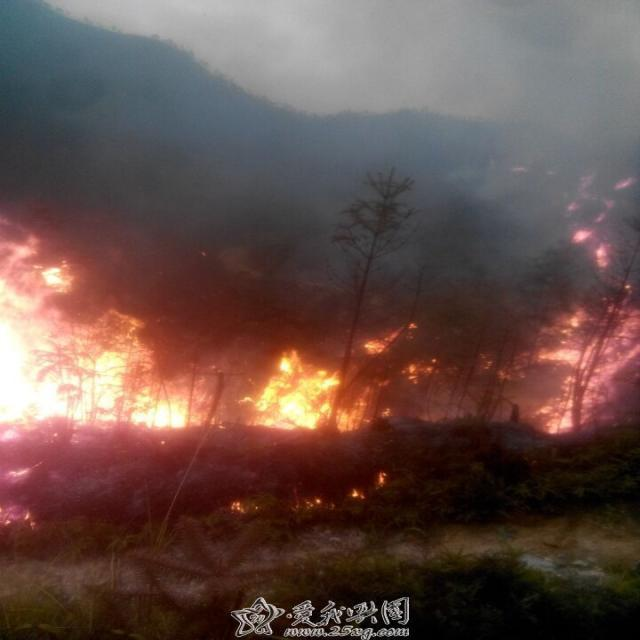Fire: (1, 230, 226, 440), (234, 323, 438, 432), (530, 304, 640, 436), (572, 228, 610, 268), (1, 502, 39, 530), (2, 462, 32, 482), (350, 488, 367, 499), (230, 499, 244, 512), (377, 472, 387, 484)
Smoke: (1, 1, 640, 350)
